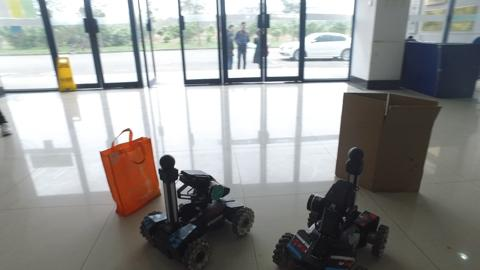bag: (100, 124, 161, 211)
box: (335, 85, 431, 166)
chariot: (273, 145, 391, 269), (150, 155, 256, 265)
